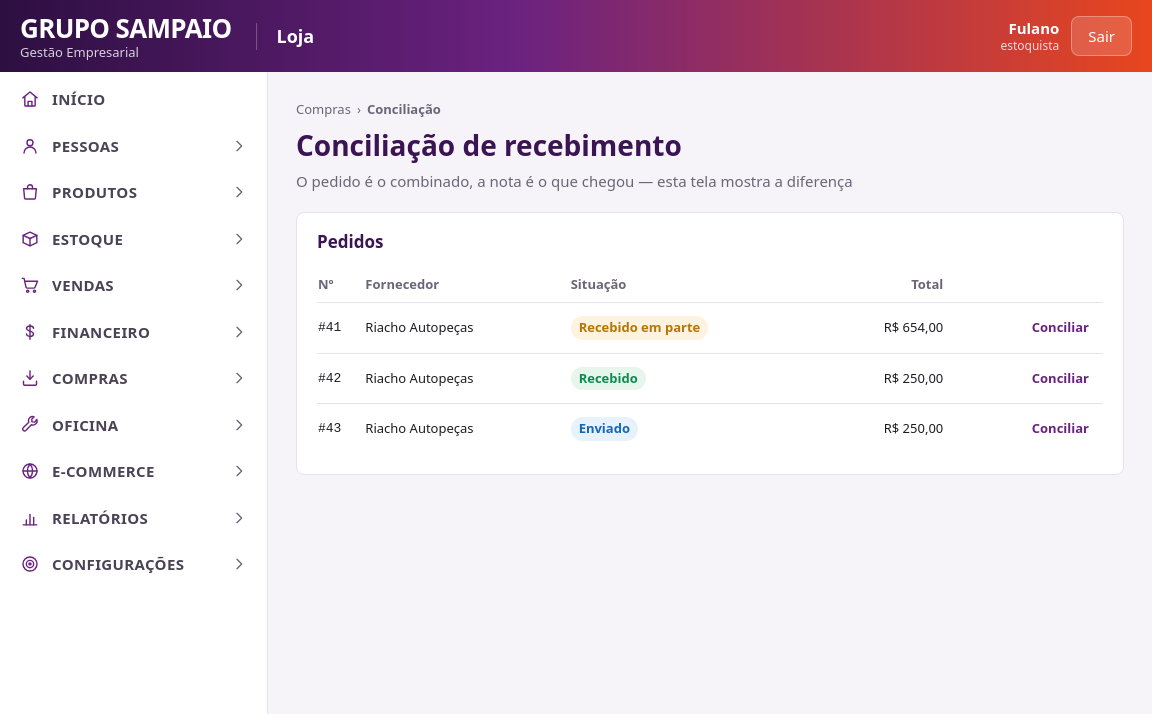
Test: a régua por linha — a mesma do recalcReceived, projetada na tela › o pedido 42, inteiro e no preço, é linha OK e pedido Concluído
What coordinates should you click on to do the following:
click the button "Conciliar" in the row of "42"
I would click on:
 (1060, 378)
Its box is x1=1019 y1=362 x2=1102 y2=395.
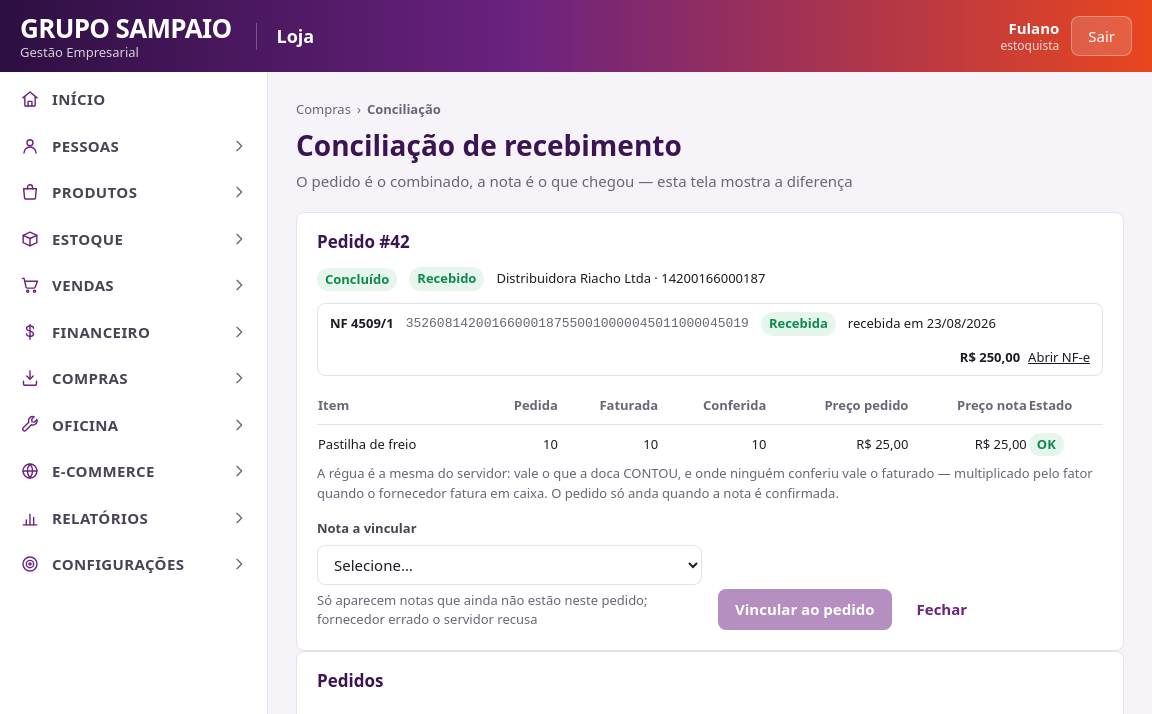
Check: the text "Pastilha de freio" is shown, box x1=318 y1=434 x2=416 y2=452
Check: the element with test id "estado-do-pedido" reads "Concluído", box x1=325 y1=270 x2=389 y2=288
